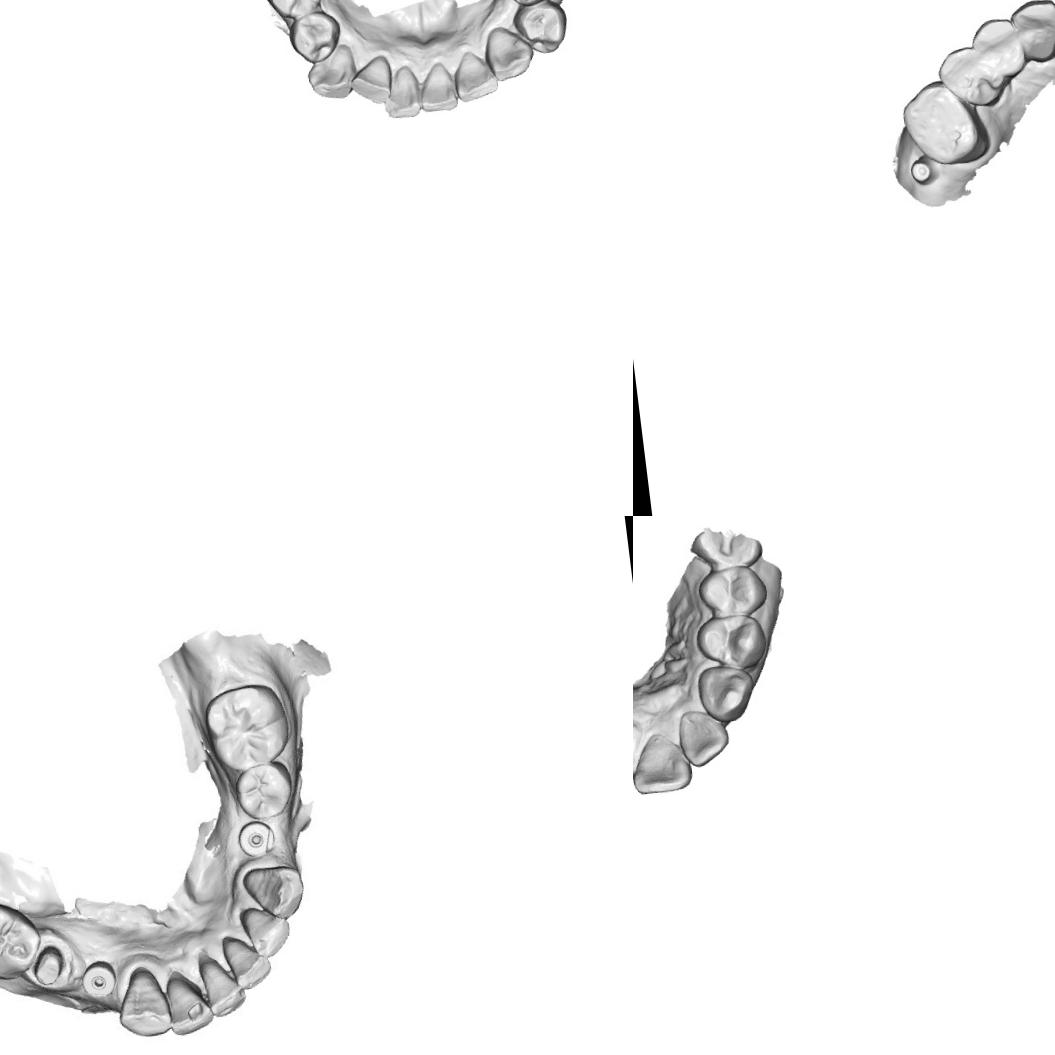canine: (113, 965, 173, 1047), (236, 859, 308, 926), (694, 660, 756, 726), (481, 22, 537, 85), (304, 42, 360, 102), (1007, 0, 1055, 67)
crown: (30, 942, 66, 988)
implant: (234, 817, 274, 856), (81, 960, 116, 1002)
incisor: (633, 730, 695, 797), (676, 704, 733, 770), (160, 974, 216, 1040), (199, 952, 250, 1016), (222, 932, 274, 992), (243, 906, 294, 965), (451, 46, 499, 104), (378, 63, 424, 123), (346, 53, 396, 108), (416, 60, 458, 114)
molar: (897, 74, 993, 170), (198, 684, 296, 770), (0, 906, 40, 978)
premolar: (694, 611, 772, 675), (934, 42, 1003, 114), (693, 562, 769, 622), (968, 12, 1028, 80), (234, 762, 295, 822), (510, 0, 571, 57), (286, 8, 344, 66), (263, 0, 326, 21)
